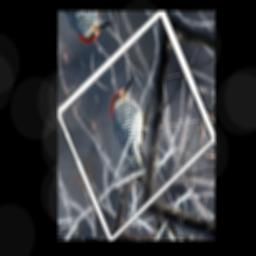Woodpecker: (99, 70, 166, 182)
